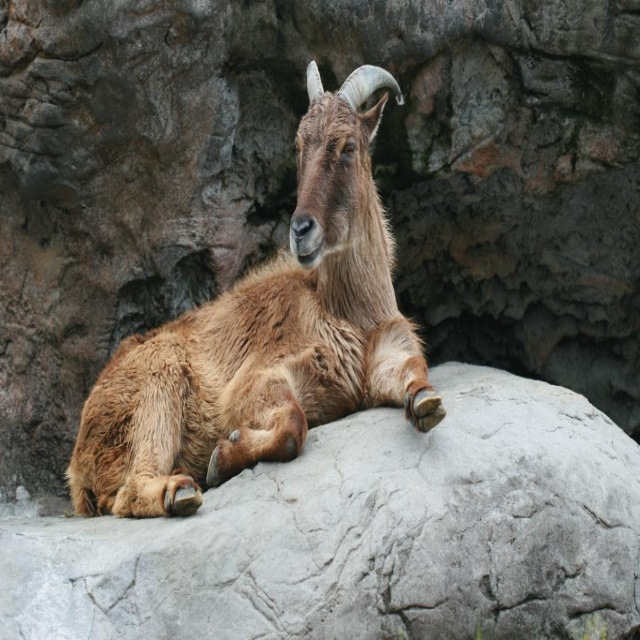Goat: (61, 61, 446, 518)
